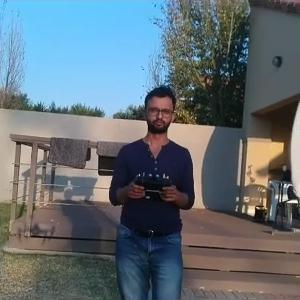follow: (103, 80, 198, 298)
